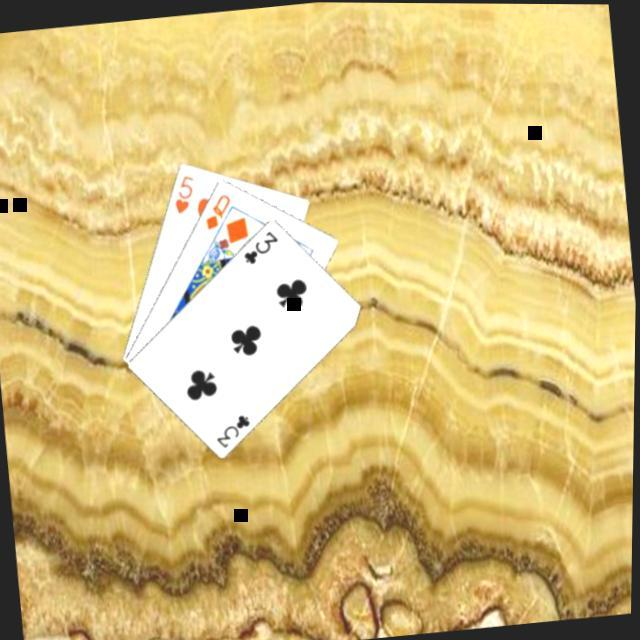3C: (236, 223, 281, 265), (209, 407, 254, 449)
5H: (167, 169, 198, 214)
QD: (198, 187, 234, 230)
